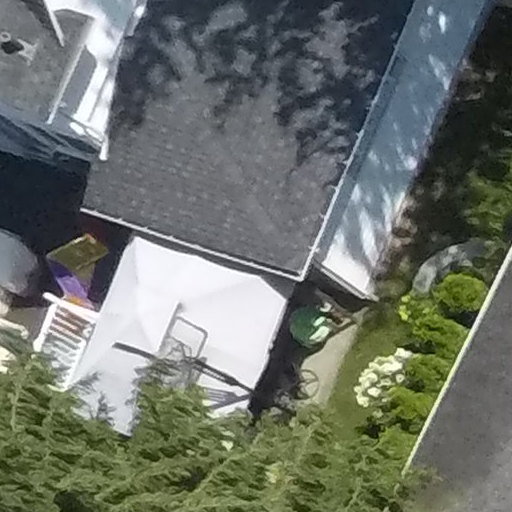tent: (43, 201, 292, 466)
